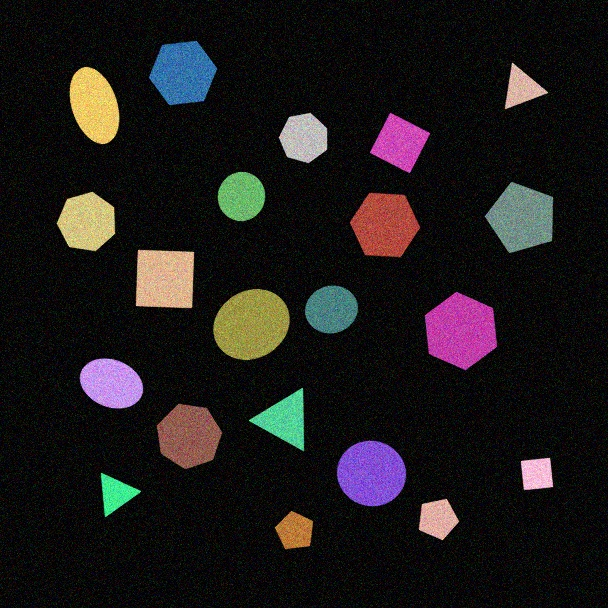Circulo: (336, 440, 407, 507), (304, 285, 359, 334), (217, 171, 266, 222)
Elipse: (212, 288, 291, 361), (69, 66, 120, 145), (79, 358, 144, 409)
Heptagono: (156, 403, 223, 470), (56, 191, 116, 252), (278, 112, 328, 164)
Hexagono: (424, 291, 498, 371), (349, 192, 421, 258), (148, 40, 218, 106)
Pentagono: (484, 181, 554, 254), (418, 498, 460, 541), (274, 510, 314, 550)
Quadrado: (369, 112, 431, 174), (135, 249, 195, 309), (520, 457, 554, 491)
Triangulo: (249, 387, 305, 452), (504, 62, 549, 110), (100, 472, 142, 518)
